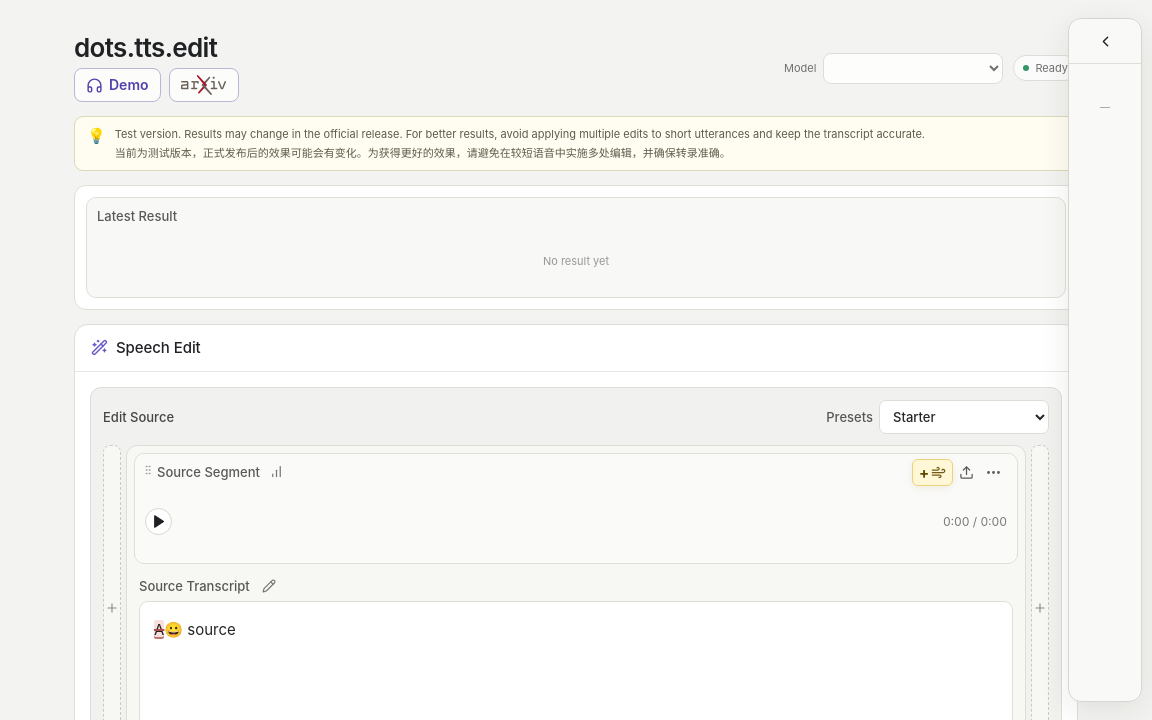
Test: Studio layout › loads structured starter operations whenever the Edit Source preset changes
Select "Second" in the dropdown labelled "Presets" at (964, 417), box [879,400,1049,434]
(page scrolled)
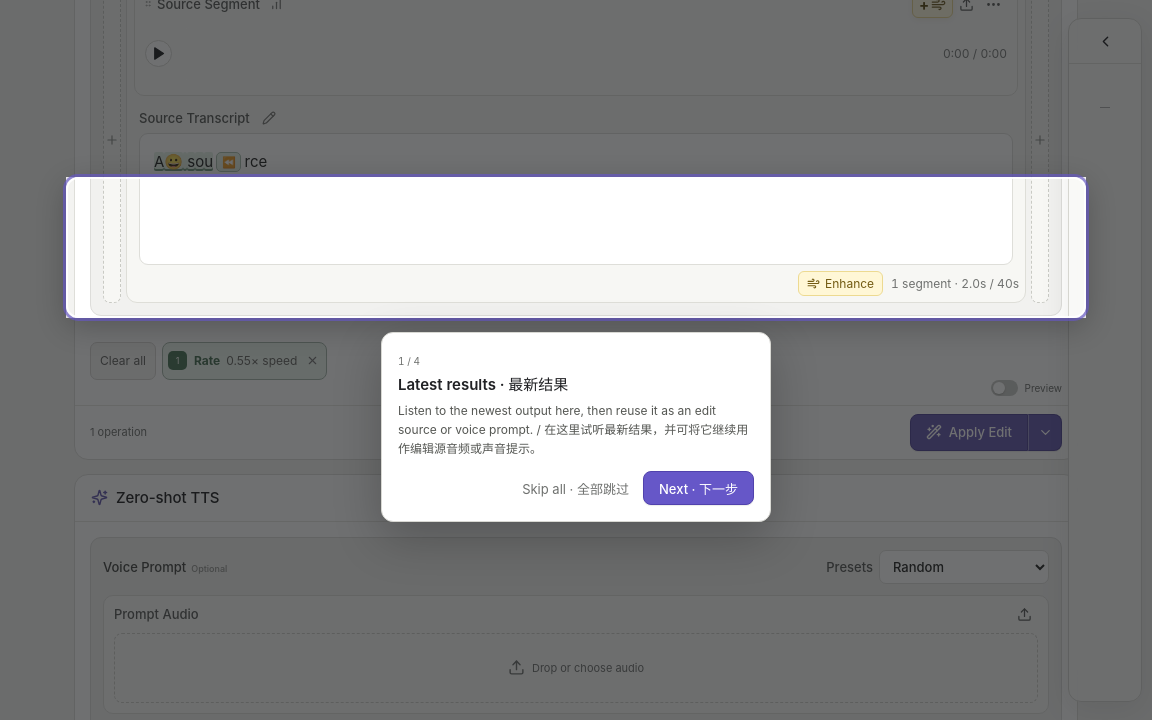
Expected: the button with class "operation-chip" shows "Rate", [162,342,327,380]
Expected: the button with class "operation-chip" no longer shows "Delete", [162,342,327,380]
